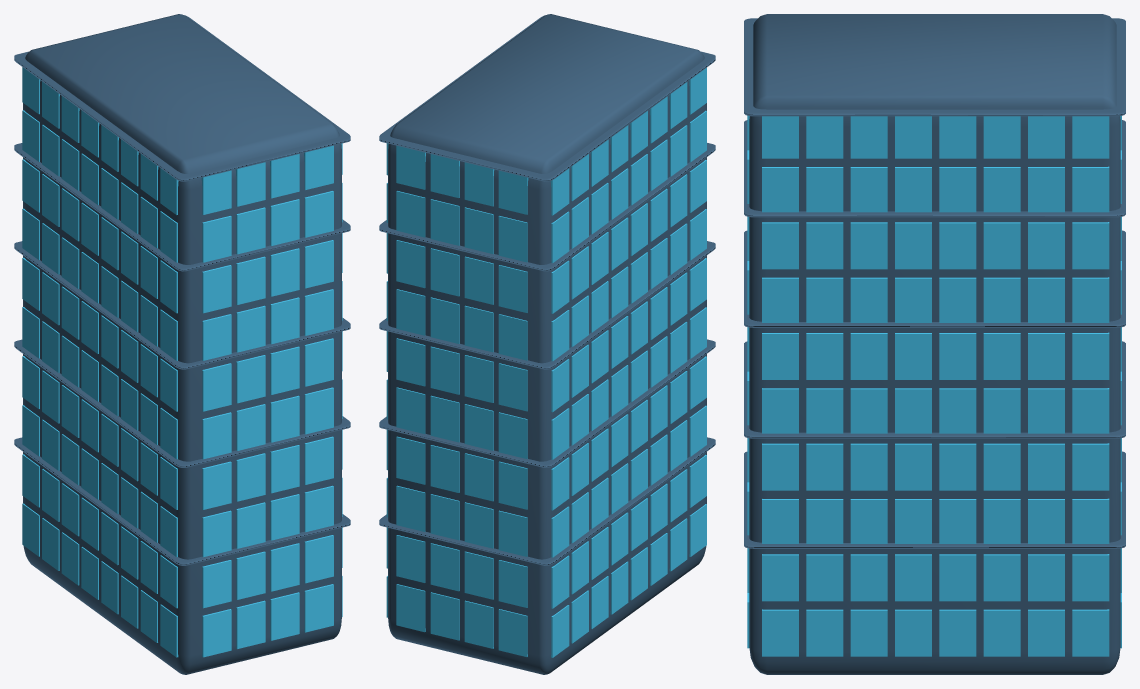
Rendered from building.fbx.
3 renders of one model, left to right at view 1: azimuth 30°, elevation 25°; view 2: azimuth 150°, elevation 25°; view 3: azimuth 270°, elevation 25°, orthographic. The views are drawn at different scales.
Visible parts, largest first — view 1: Cube, Cube.002, Cube.003, Cube.006, Cube.005, Cube.009, Cube.008, Cube.007; view 2: Cube, Cube.002, Cube.004, Cube.006, Cube.008, Cube.005, Cube.009, Cube.007, Cube.001; view 3: Cube.001, Cube, Cube.006, Cube.005, Cube.007, Cube.009, Cube.008, Cube.003, Cube.004.
Boxes of the visible parts, x1,y1,x2,y2 form: Cube: (23, 14, 341, 674); Cube.002: (22, 67, 178, 657); Cube.003: (201, 145, 333, 657); Cube.006: (14, 15, 350, 181); Cube.005: (14, 143, 350, 271); Cube.009: (14, 437, 350, 565); Cube.008: (14, 241, 350, 369); Cube.007: (14, 339, 350, 467); Cube: (388, 14, 706, 674); Cube.002: (550, 67, 706, 657); Cube.004: (396, 145, 528, 656); Cube.006: (379, 15, 715, 181); Cube.008: (379, 241, 715, 369); Cube.005: (379, 143, 715, 271); Cube.009: (379, 437, 715, 565); Cube.007: (379, 339, 715, 467); Cube.001: (386, 143, 388, 617); Cube.001: (762, 116, 1109, 656); Cube: (749, 14, 1120, 674); Cube.006: (744, 18, 1125, 116); Cube.005: (744, 120, 1125, 217); Cube.007: (744, 341, 1125, 438); Cube.009: (744, 451, 1125, 548); Cube.008: (744, 230, 1125, 327); Cube.003: (747, 115, 749, 648); Cube.004: (1120, 116, 1121, 648).
Size of the model in its own units: 747 by 2123 by 1267.
